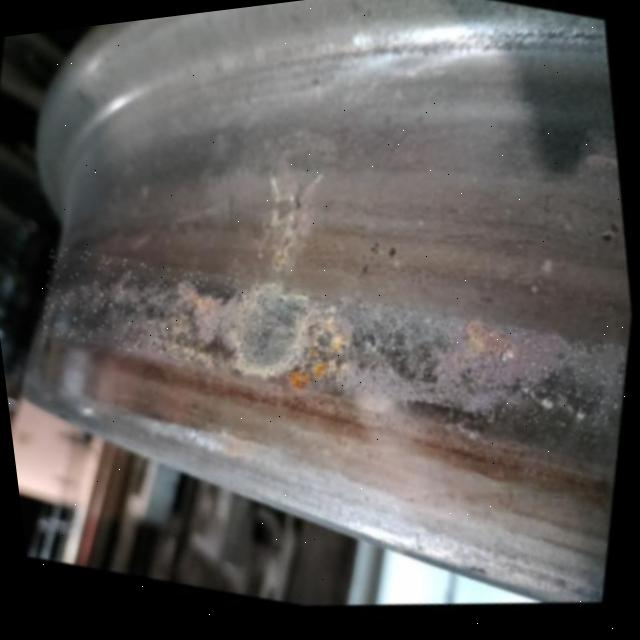Rollerpile: (4, 227, 573, 487)
